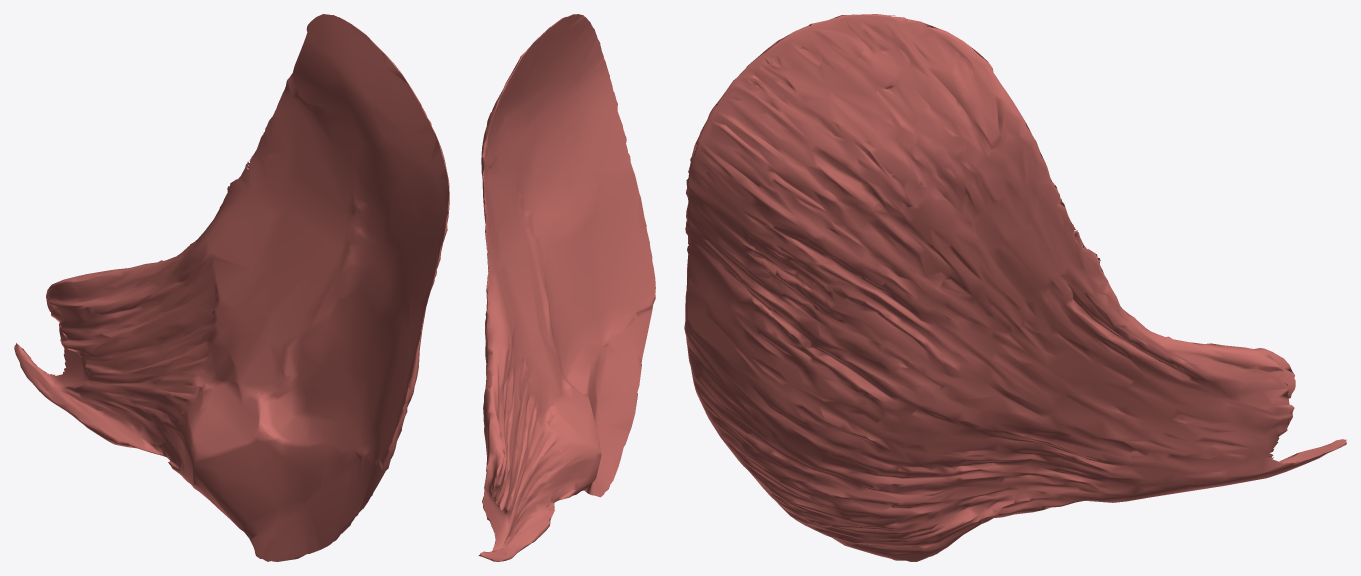
3 views of the same model, side by side, from view 1: azimuth 30°, elevation 25°; view 2: azimuth 150°, elevation 25°; view 3: azimuth 270°, elevation 25° (orthographic). The views are drawn at different scales.
Parts seen in each view (by area): view 1: 左侧颞肌; view 2: 左侧颞肌; view 3: 左侧颞肌.
Part boxes in pixels (x1,y1,x2,y2): 左侧颞肌: (14, 14, 449, 561); 左侧颞肌: (478, 14, 655, 561); 左侧颞肌: (684, 14, 1346, 561).
Bounding box in the file's own units: 0.0576 × 0.1678 × 0.1709.
